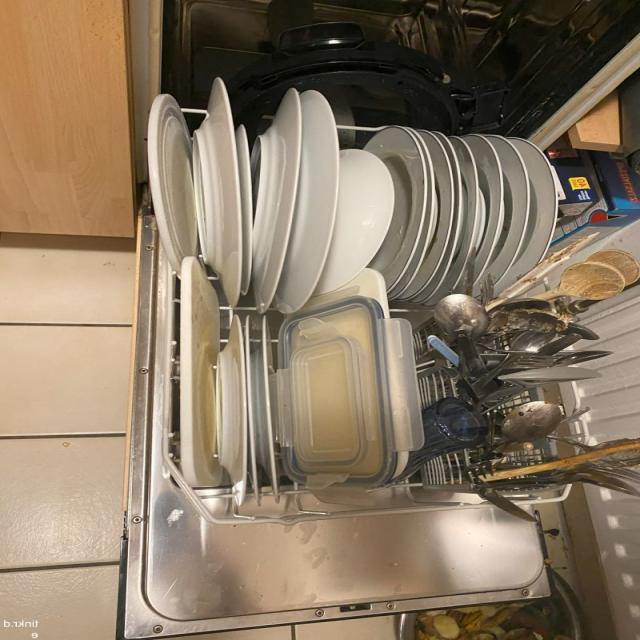clutery_bin: (441, 292, 590, 493)
